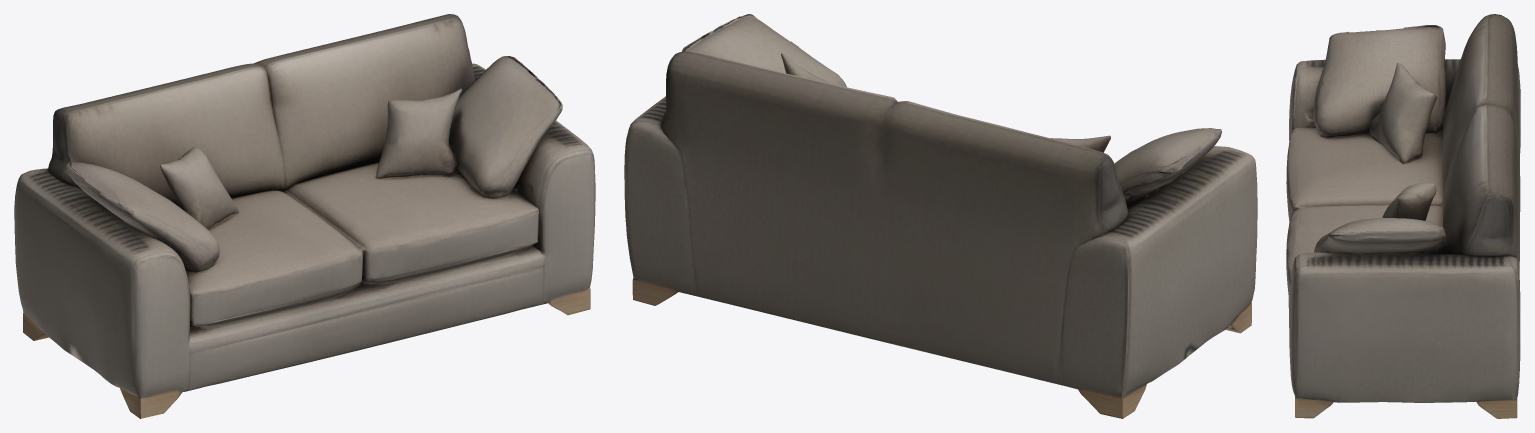
File: GRISOFA.glb
3 views of the same model, side by side, from view 1: azimuth 30°, elevation 25°; view 2: azimuth 150°, elevation 25°; view 3: azimuth 270°, elevation 25° (orthographic). The views are drawn at different scales.
Visible parts, largest first — view 1: world_0; view 2: world_0; view 3: world_0.
Boxes of the visible parts, bbox=[...] form: world_0: bbox=[14, 14, 595, 418]; world_0: bbox=[624, 14, 1257, 418]; world_0: bbox=[1286, 14, 1520, 418].
Bounding box in the file's own units: 1.99 × 0.9169 × 0.9103.
1 material, 1 textured.
